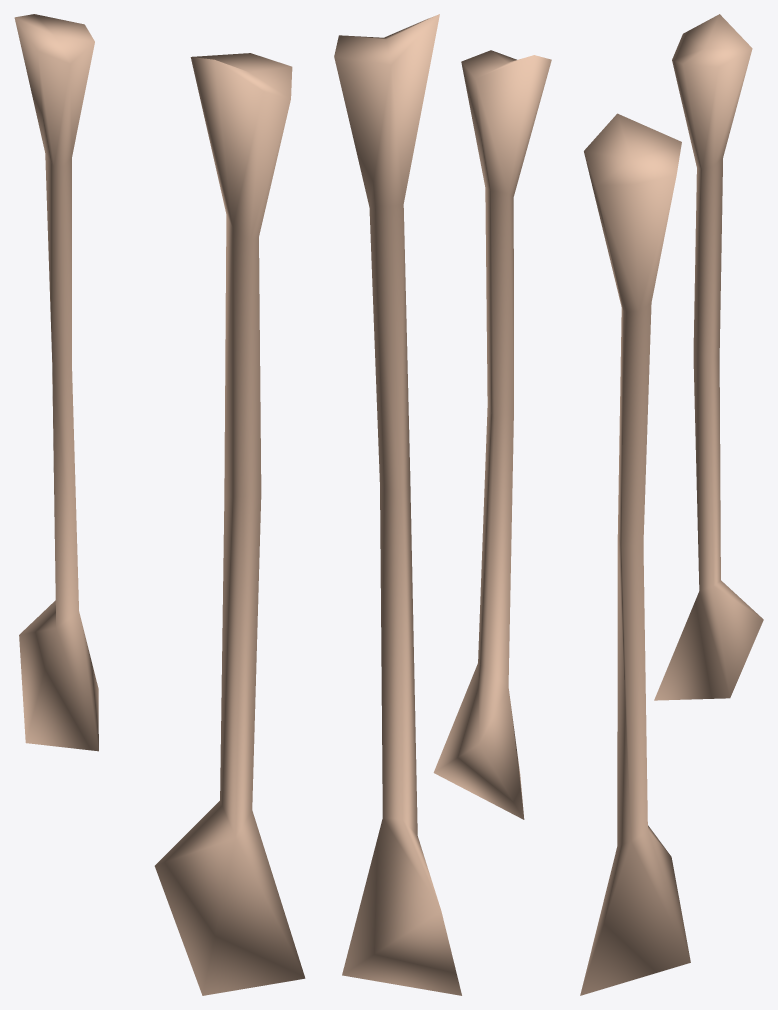
Rendered from windChime_bone2.glb.
3 views of the same model, side by side, from view 1: azimuth 30°, elevation 25°; view 2: azimuth 150°, elevation 25°; view 3: azimuth 270°, elevation 25° (orthographic). The views are drawn at different scales.
Visible parts, largest first — view 1: bone.002, bone.004; view 2: bone.002, bone.004; view 3: bone.002, bone.004.
Boxes of the visible parts, x1,y1,x2,y2 form: bone.002: (154, 53, 305, 995); bone.004: (14, 14, 98, 751); bone.002: (334, 14, 461, 995); bone.004: (433, 50, 551, 819); bone.002: (580, 113, 690, 995); bone.004: (654, 14, 763, 700).
Size of the model in its own units: 0.2497 by 0.9961 by 0.186.
